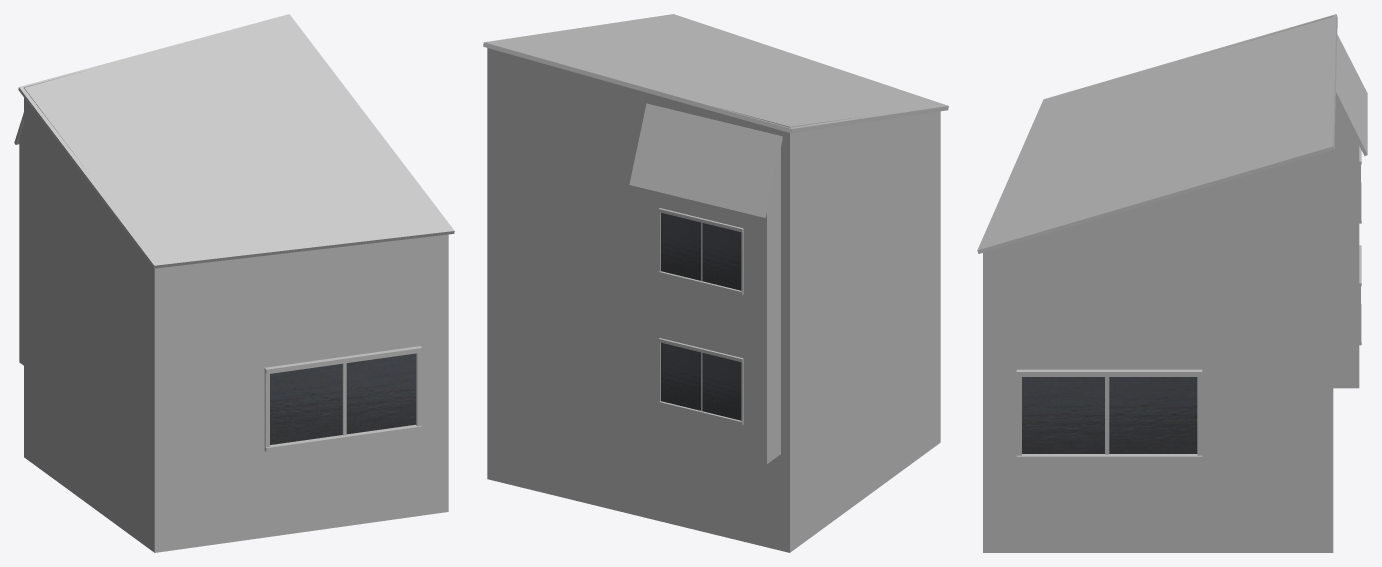
The model's file is apart_poor_10a.fbx.
3 views of the same model, side by side, from view 1: azimuth 30°, elevation 25°; view 2: azimuth 150°, elevation 25°; view 3: azimuth 270°, elevation 25° (orthographic). The views are drawn at different scales.
Visible parts, largest first — view 1: apart_poor_10a; view 2: apart_poor_10a; view 3: apart_poor_10a.
Boxes of the visible parts, x1=… form: apart_poor_10a: x1=14, y1=14, x2=454, y2=552; apart_poor_10a: x1=483, y1=14, x2=948, y2=552; apart_poor_10a: x1=977, y1=14, x2=1367, y2=552.
Bounding box in the file's own units: 3.45 × 4.61 × 4.
